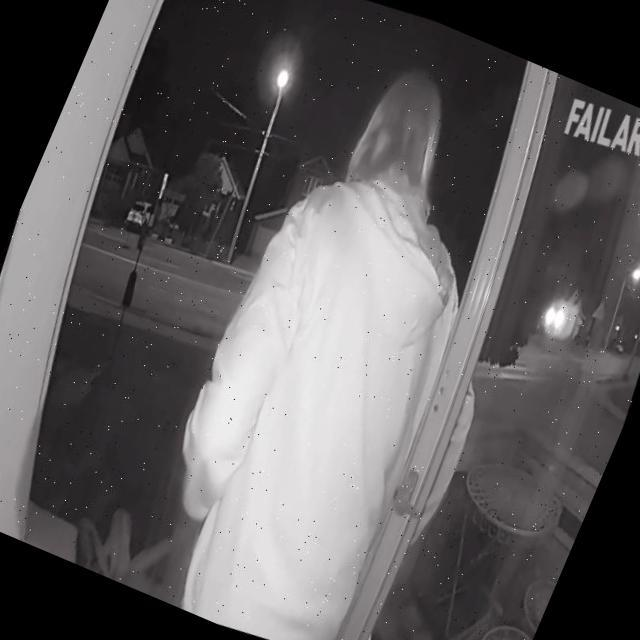person: (85, 8, 620, 640)
